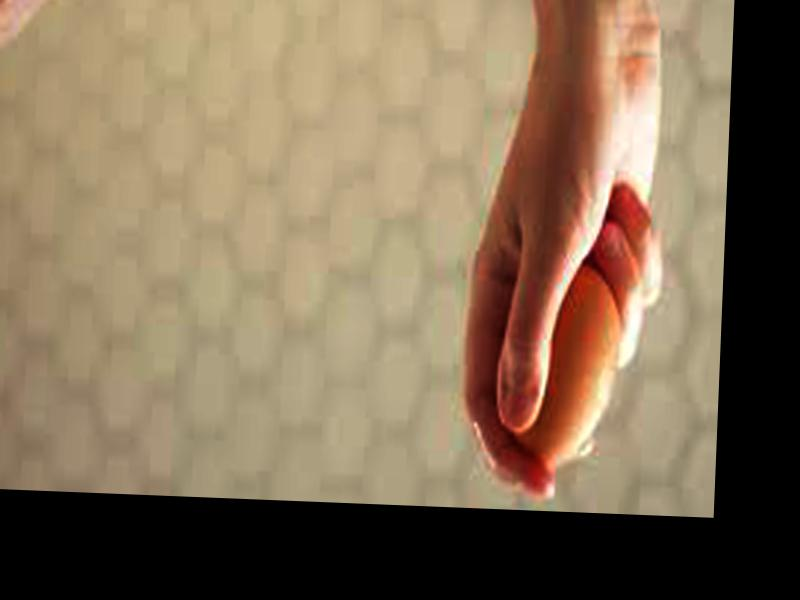Eggs: (502, 262, 628, 467)
